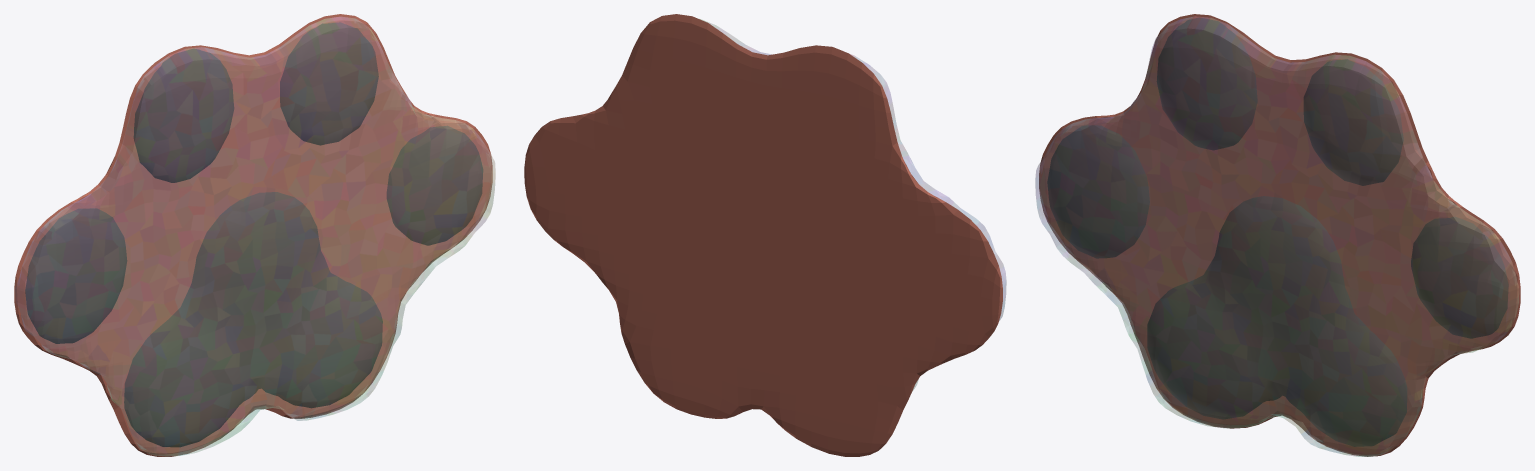
Rendered from dog_holo.glb.
The picture shows the model from 3 angles, left to right: view 1: azimuth 30°, elevation 25°; view 2: azimuth 150°, elevation 25°; view 3: azimuth 330°, elevation 25°; orthographic projection.
Parts seen in each view (by area): view 1: 平面.001, メタボール.007, 平面; view 2: 平面, 平面.001; view 3: 平面.001, メタボール.007, 平面.
Boxes of the visible parts, bbox=[...] form: 平面.001: bbox=[15, 17, 495, 456]; メタボール.007: bbox=[25, 22, 483, 447]; 平面: bbox=[14, 14, 492, 456]; 平面: bbox=[524, 14, 1002, 456]; 平面.001: bbox=[700, 19, 1006, 391]; 平面.001: bbox=[1035, 16, 1518, 456]; メタボール.007: bbox=[1047, 17, 1508, 446]; 平面: bbox=[1039, 14, 1520, 456].
Bounding box in the file's own units: 2.48 × 2.02 × 0.0958.
3 materials, 1 textured.
